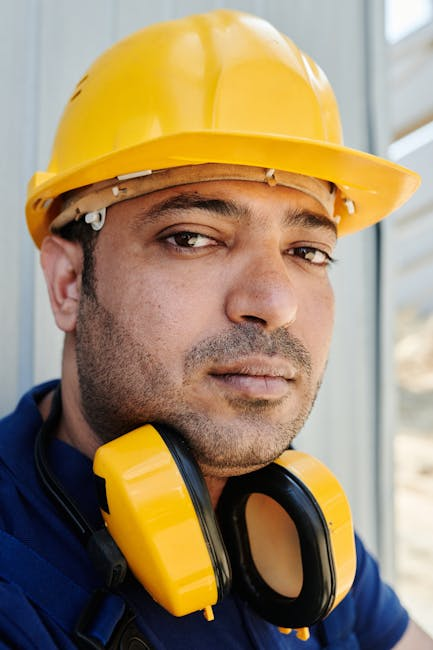safety_helmet: (24, 8, 422, 250)
